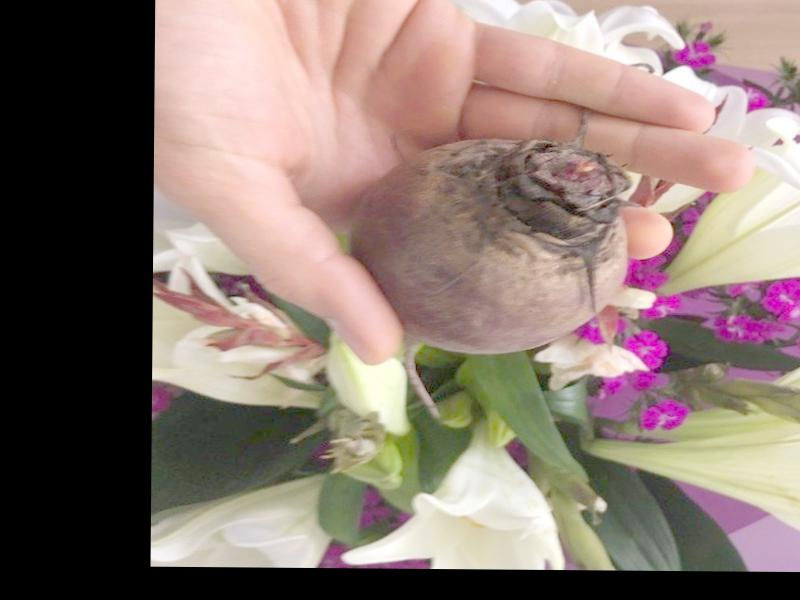Beet: (348, 136, 629, 422)
